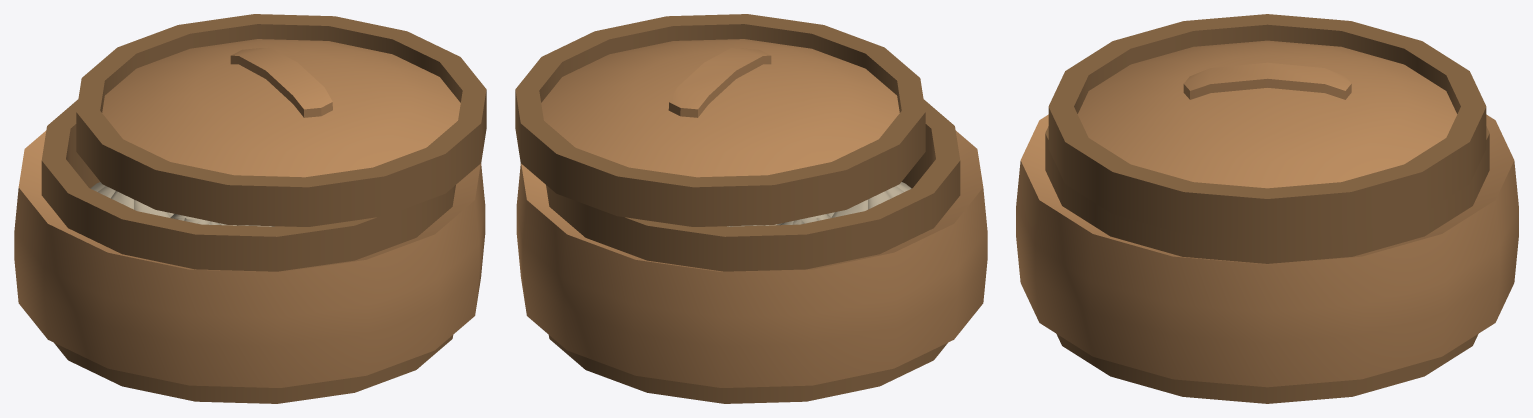
The model's file is steamer.glb.
3 views of the same model, side by side, from view 1: azimuth 30°, elevation 25°; view 2: azimuth 150°, elevation 25°; view 3: azimuth 270°, elevation 25° (orthographic). The views are drawn at different scales.
Visible parts, largest first — view 1: Environment_ChukamanSteamer, ChukamanSteamer_Lid; view 2: Environment_ChukamanSteamer, ChukamanSteamer_Lid; view 3: Environment_ChukamanSteamer, ChukamanSteamer_Lid.
Part boxes in pixels (x1=…): Environment_ChukamanSteamer: x1=14, y1=99, x2=485, y2=403; ChukamanSteamer_Lid: x1=76, y1=14, x2=486, y2=226; Environment_ChukamanSteamer: x1=516, y1=99, x2=987, y2=403; ChukamanSteamer_Lid: x1=515, y1=14, x2=925, y2=226; Environment_ChukamanSteamer: x1=1016, y1=114, x2=1518, y2=403; ChukamanSteamer_Lid: x1=1048, y1=14, x2=1486, y2=241.
Size of the model in its own units: 1.11 by 0.6135 by 1.09.
